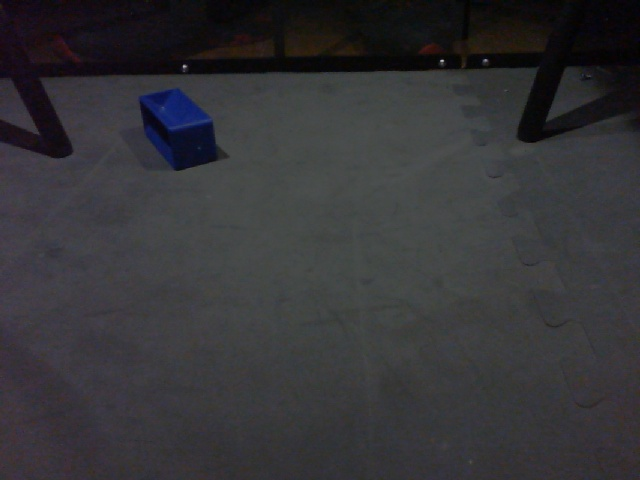BlueSample: (135, 83, 219, 173)
